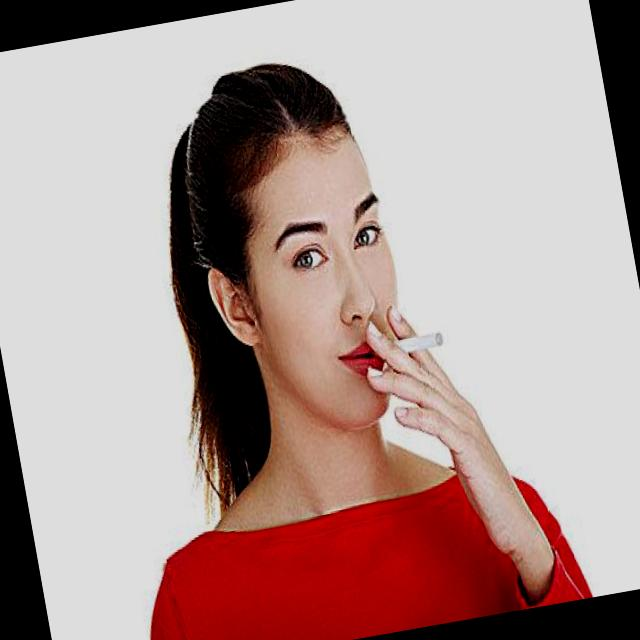cigarette: (365, 326, 447, 369)
